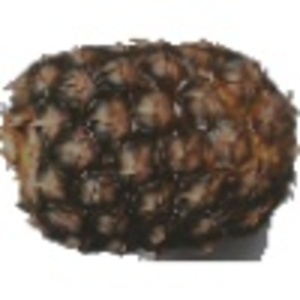abacaxi: (1, 34, 295, 252)
